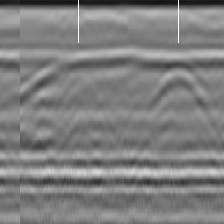Utility: (149, 64, 210, 115)
